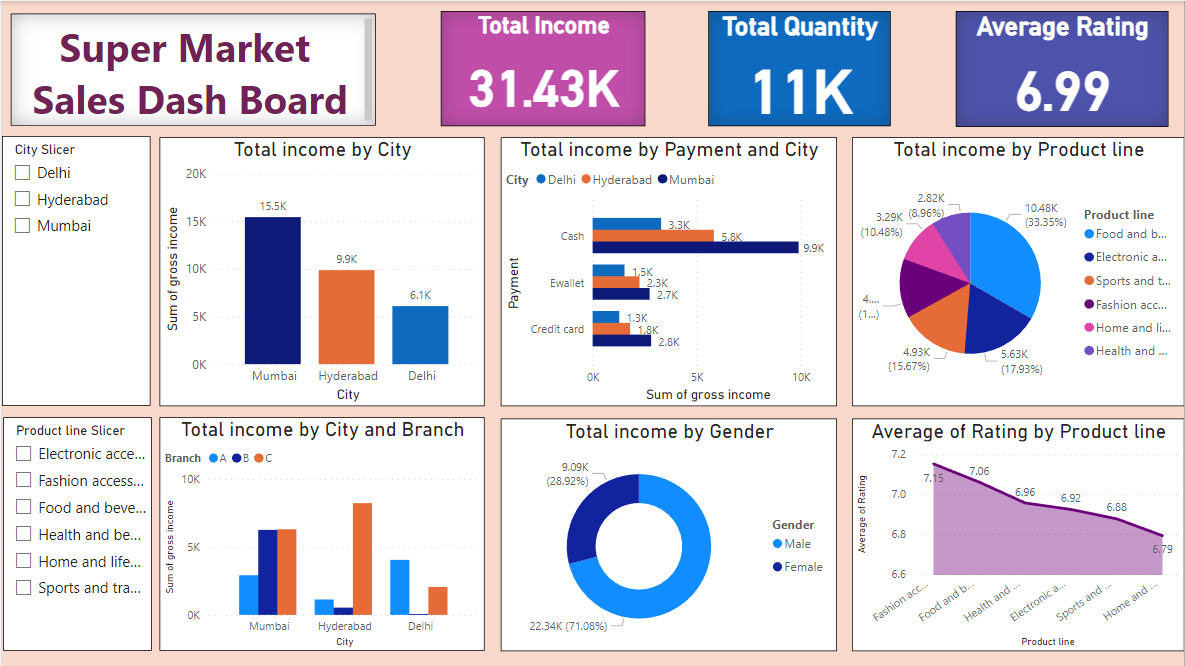

The page's visual inventory and layout, read from the dashboard file:
{"tool":"powerbi","page":{"name":"Report","canvas":[1280,720],"ordinal":0},"visuals":[{"type":"textbox","box":[9.5,13.5,395.2,121.8],"z":0},{"type":"card","title":"Total Income","fields":{"Values":["Sum(SuperstoreSales_Dataset xlsx+-+finalSuperstoreSales csv+(1).gross income)"]},"box":[475,10.8,222,124.5],"z":1000},{"type":"card","title":"Total Quantity","fields":{"Values":["Sum(SuperstoreSales_Dataset xlsx+-+finalSuperstoreSales csv+(1).Quantity)"]},"box":[764.6,10.8,197.6,124.5],"z":2000},{"type":"card","title":"Average Rating","fields":{"Values":["Avg(SuperstoreSales_Dataset xlsx+-+finalSuperstoreSales csv+(1).Rating)"]},"box":[1032.6,10.8,230.1,125.9],"z":3000},{"type":"columnChart","title":"Total income by City","fields":{"Category":["SuperstoreSales_Dataset xlsx+-+finalSuperstoreSales csv+(1).City"],"Y":["Sum(SuperstoreSales_Dataset xlsx+-+finalSuperstoreSales csv+(1).gross income)"]},"box":[170.5,147.5,351.9,291],"z":4000},{"type":"clusteredBarChart","title":"Total income by Payment and City","fields":{"Y":["Sum(SuperstoreSales_Dataset xlsx+-+finalSuperstoreSales csv+(1).gross income)"],"Category":["SuperstoreSales_Dataset xlsx+-+finalSuperstoreSales csv+(1).Payment"],"Series":["SuperstoreSales_Dataset xlsx+-+finalSuperstoreSales csv+(1).City"]},"box":[540,147.5,364.1,291],"z":5000},{"type":"areaChart","fields":{"Category":["SuperstoreSales_Dataset xlsx+-+finalSuperstoreSales csv+(1).Product line"],"Y":["Avg(SuperstoreSales_Dataset xlsx+-+finalSuperstoreSales csv+(1).Rating)"]},"box":[920.3,452,360,251.7],"z":6000},{"type":"pieChart","title":"Total income by Product line","fields":{"Category":["SuperstoreSales_Dataset xlsx+-+finalSuperstoreSales csv+(1).Product line"],"Y":["Sum(SuperstoreSales_Dataset xlsx+-+finalSuperstoreSales csv+(1).gross income)"]},"box":[920.3,147.5,360,291],"z":7000},{"type":"donutChart","title":"Total income by Gender","fields":{"Category":["SuperstoreSales_Dataset xlsx+-+finalSuperstoreSales csv+(1).Gender"],"Y":["Sum(SuperstoreSales_Dataset xlsx+-+finalSuperstoreSales csv+(1).gross income)"]},"box":[540,452,364.1,251.7],"z":8000},{"type":"slicer","fields":{"Values":["SuperstoreSales_Dataset xlsx+-+finalSuperstoreSales csv+(1).City"]},"box":[0,146.2,161,292.3],"z":10000},{"type":"slicer","fields":{"Values":["SuperstoreSales_Dataset xlsx+-+finalSuperstoreSales csv+(1).Product line"]},"box":[1.4,450.7,161,253.1],"z":11000},{"type":"clusteredColumnChart","title":"Total income by City and Branch","fields":{"Category":["SuperstoreSales_Dataset xlsx+-+finalSuperstoreSales csv+(1).City"],"Y":["Sum(SuperstoreSales_Dataset xlsx+-+finalSuperstoreSales csv+(1).gross income)"],"Series":["SuperstoreSales_Dataset xlsx+-+finalSuperstoreSales csv+(1).Branch"]},"box":[170.5,450.7,351.9,253.1],"z":11001}]}

Visuals, with their boxes in screenshot pixels (x1, y1, x2, y2), scaled from the page's 1280x720 canvas onto the 1185x666 screenshot:
textbox: [9, 12, 375, 125]
"Total Income" card: [440, 10, 645, 125]
"Total Quantity" card: [708, 10, 891, 125]
"Average Rating" card: [956, 10, 1169, 126]
"Total income by City" columnChart: [158, 136, 484, 406]
"Total income by Payment and City" clusteredBarChart: [500, 136, 837, 406]
areaChart - SuperstoreSales_Dataset xlsx+-+finalSuperstoreSales csv+(1).Product line x Avg(SuperstoreSales_Dataset xlsx+-+finalSuperstoreSales csv+(1).Rating): [852, 418, 1184, 651]
"Total income by Product line" pieChart: [852, 136, 1184, 406]
"Total income by Gender" donutChart: [500, 418, 837, 651]
slicer - SuperstoreSales_Dataset xlsx+-+finalSuperstoreSales csv+(1).City: [0, 135, 149, 406]
slicer - SuperstoreSales_Dataset xlsx+-+finalSuperstoreSales csv+(1).Product line: [1, 417, 150, 651]
"Total income by City and Branch" clusteredColumnChart: [158, 417, 484, 651]
